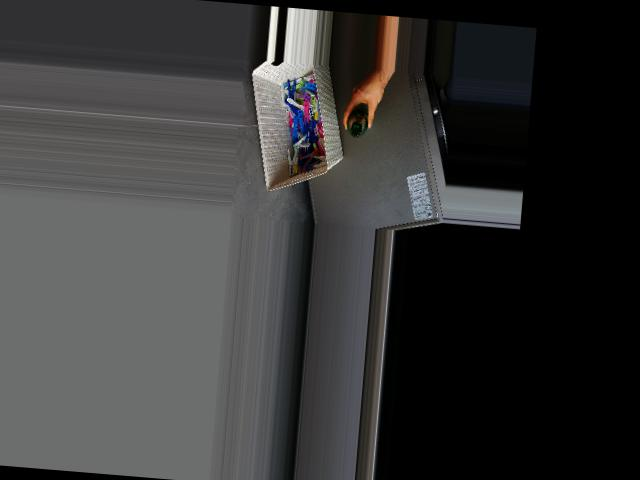beer: (346, 106, 369, 138)
